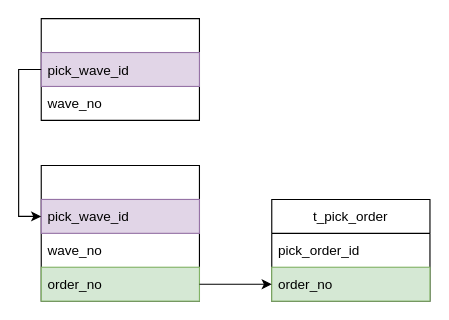
Image size: 449x320. Some labels were removed from this diagram. Here are the shapes that lost their labels. From the top down, the box of each, then its label:
(40, 18, 199, 120): t_pick_wave
(40, 164, 199, 301): t_pick_wave_detail
